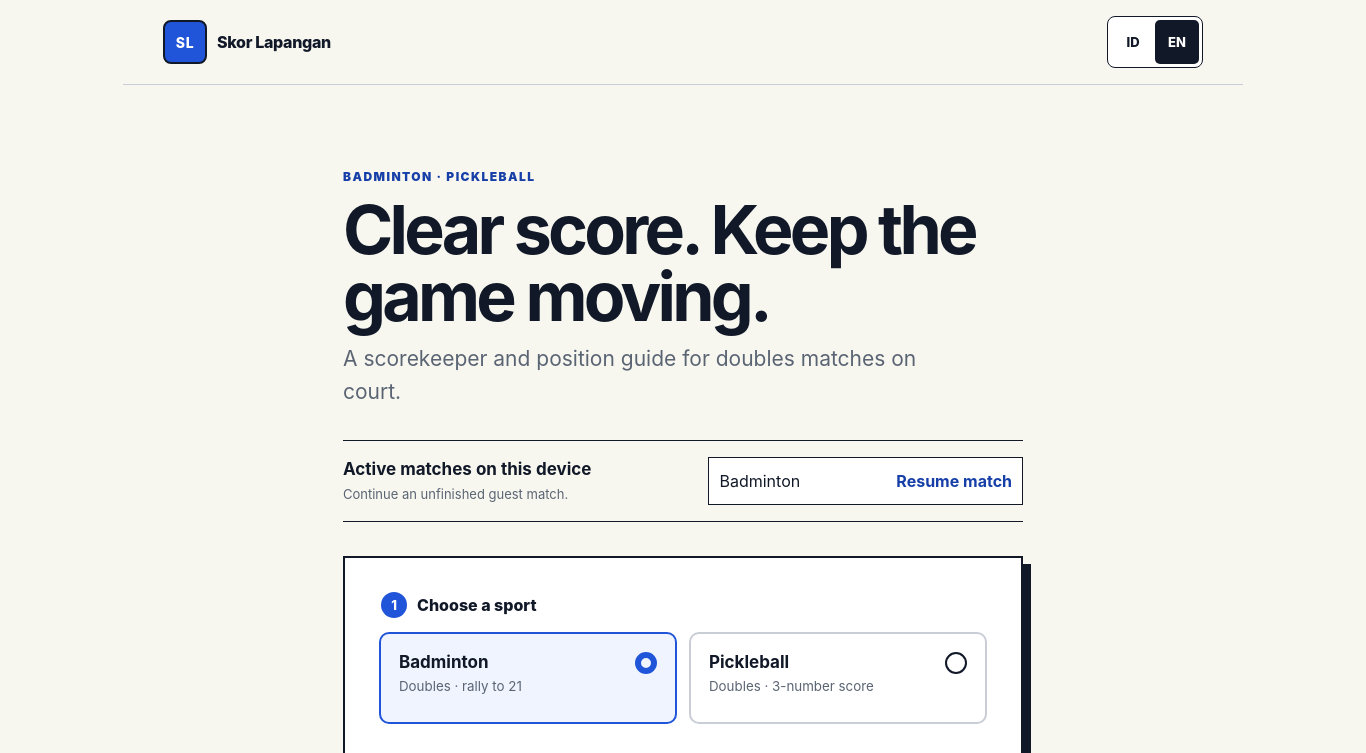
Scenario: quick start › offers an active match after the tab is reopened on the same device
This screenshot has width=1366, height=753.
Click the button "Badminton Resume match".
click(760, 481)  # box 708,457 -> 1023,505
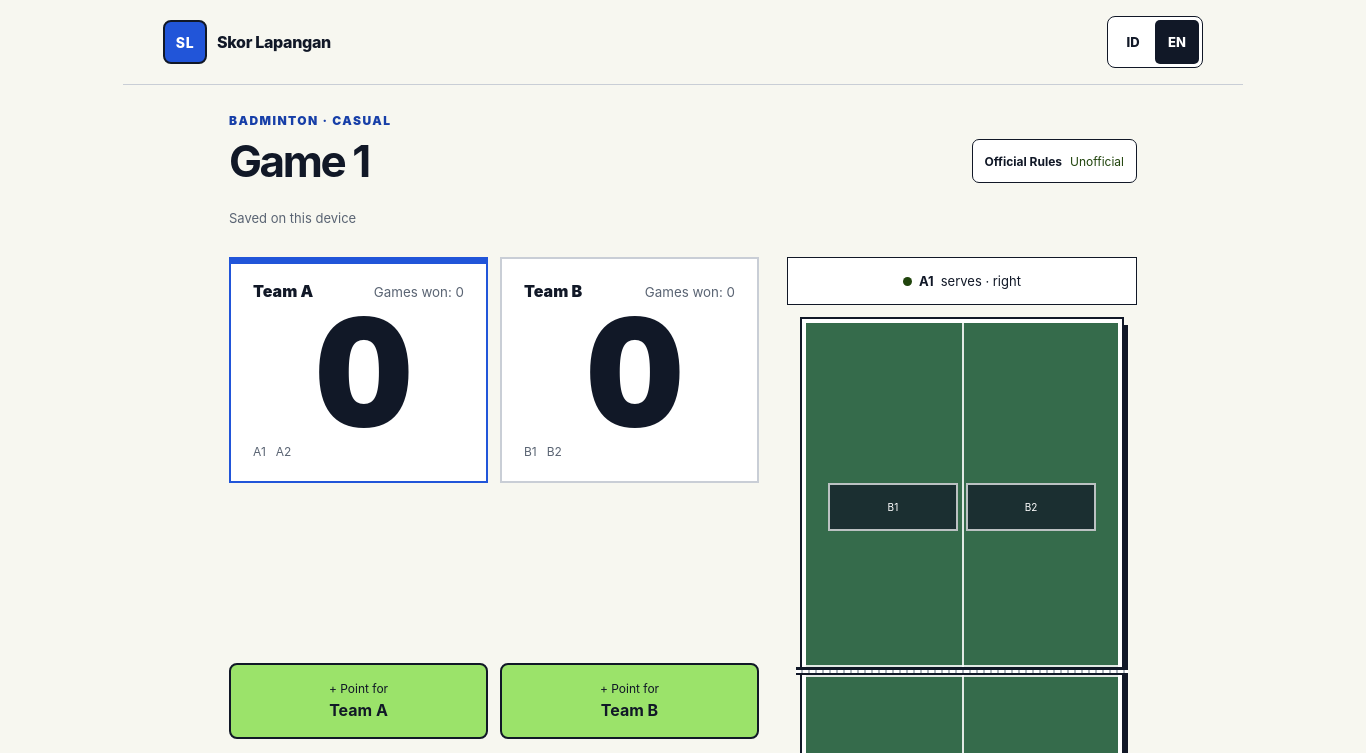
Expected: the heading "Game 1" is shown, 229,140 -> 392,183
